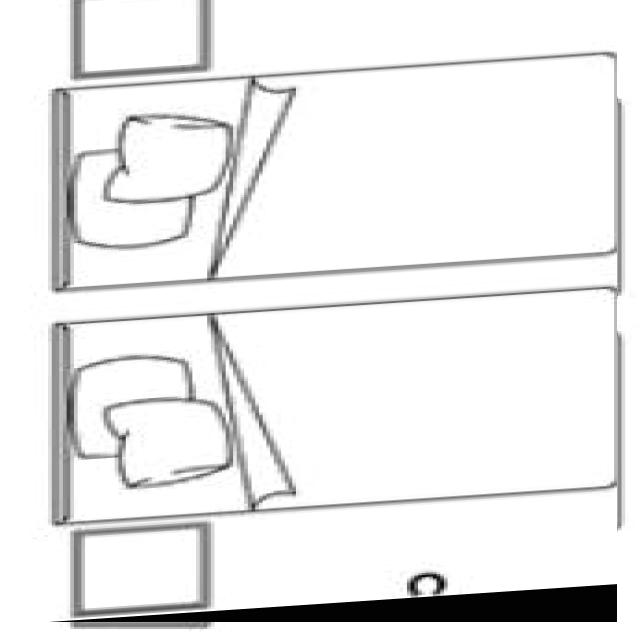bed: (48, 0, 617, 622)
